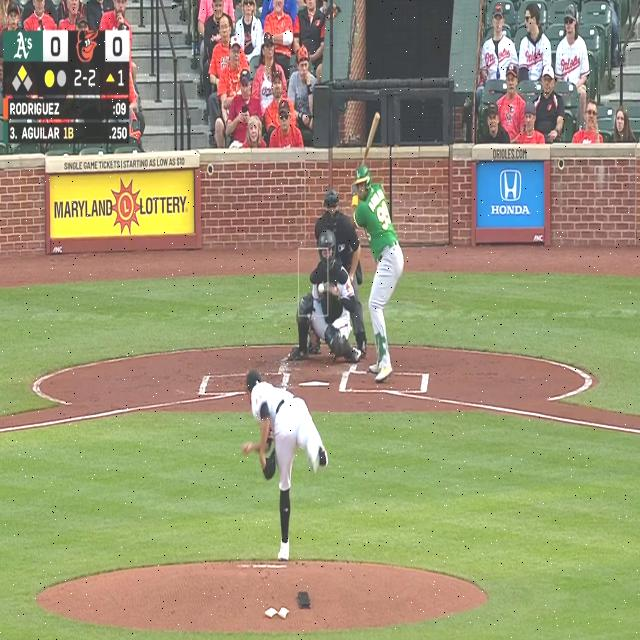baseball: (318, 284, 324, 294)
